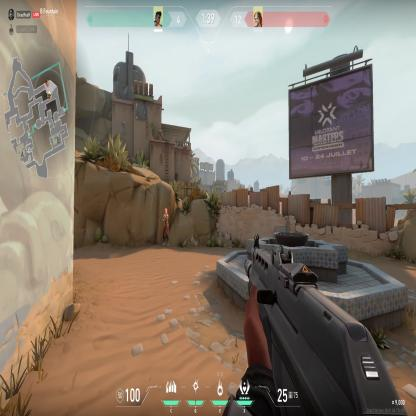enemy: (162, 206, 171, 247)
